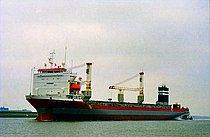Ship: (25, 62, 192, 122)
